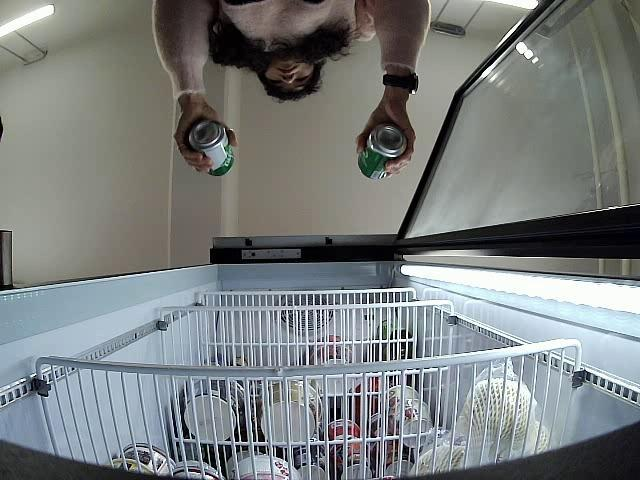12_chilsungCider: (187, 119, 236, 178), (358, 126, 404, 183)
